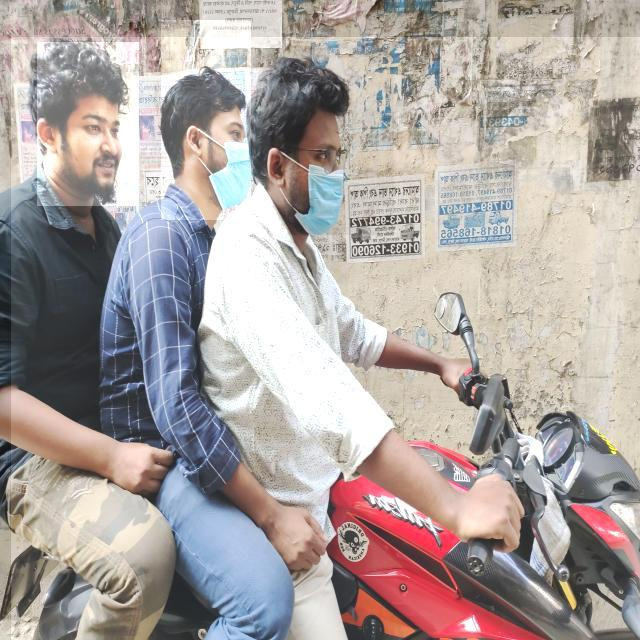No_Helmet: (270, 45, 394, 235), (161, 20, 251, 220), (37, 42, 139, 206)
Overloading: (11, 37, 640, 640)
